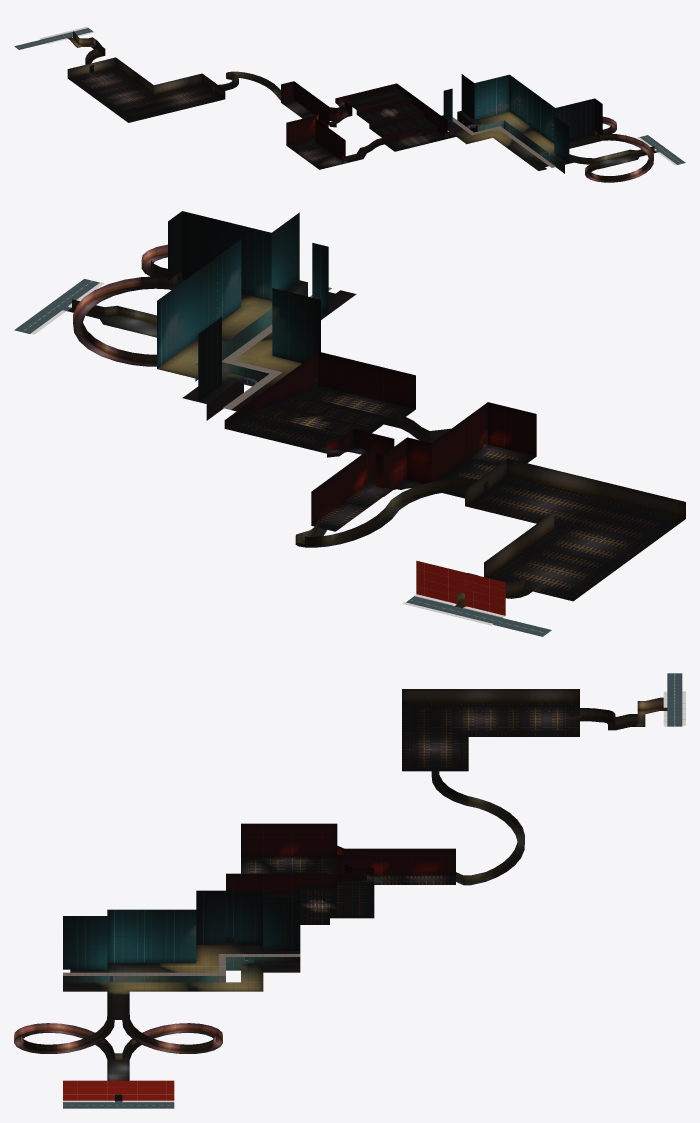
The model's file is underground-mesh.gltf.
The picture shows the model from 3 angles, top to bottom: view 1: azimuth 30°, elevation 25°; view 2: azimuth 150°, elevation 25°; view 3: azimuth 270°, elevation 25°; orthographic projection. The views are drawn at different scales.
Visible parts, largest first — view 1: WaterRoom, BrickGarage, Lot01, FinalSpirals, CurveTunnel, ExitTunnel, EntranceTunnel, Road1, FinalOutdoors; view 2: WaterRoom, BrickGarage, Lot01, FinalSpirals, Building1, CurveTunnel, Road1, ExitTunnel, FinalOutdoors; view 3: WaterRoom, BrickGarage, Lot01, FinalSpirals, FinalOutdoors, CurveTunnel, EntranceTunnel, Road1.
Boxes of the visible parts, <box> form: WaterRoom: <box>441,74,602,173</box>; BrickGarage: <box>281,81,447,169</box>; Lot01: <box>67,57,225,122</box>; FinalSpirals: <box>569,116,653,182</box>; CurveTunnel: <box>212,71,279,94</box>; ExitTunnel: <box>595,146,656,168</box>; EntranceTunnel: <box>67,31,105,72</box>; Road1: <box>14,26,94,49</box>; FinalOutdoors: <box>637,135,685,165</box>; WaterRoom: <box>157,211,356,420</box>; BrickGarage: <box>224,351,536,531</box>; Lot01: <box>465,458,685,601</box>; FinalSpirals: <box>73,244,182,366</box>; Building1: <box>416,560,505,615</box>; CurveTunnel: <box>295,478,488,547</box>; Road1: <box>402,594,551,636</box>; ExitTunnel: <box>67,299,156,337</box>; FinalOutdoors: <box>14,279,104,334</box>; WaterRoom: <box>63,890,300,1019</box>; BrickGarage: <box>226,823,455,938</box>; Lot01: <box>402,689,579,771</box>; FinalSpirals: <box>14,1015,222,1060</box>; FinalOutdoors: <box>63,1080,174,1108</box>; CurveTunnel: <box>431,771,524,881</box>; EntranceTunnel: <box>580,697,667,730</box>; Road1: <box>663,673,685,726</box>.
Size of the model in its own units: 837 by 160 by 725.
Materials: 1 (1 with a texture image).
